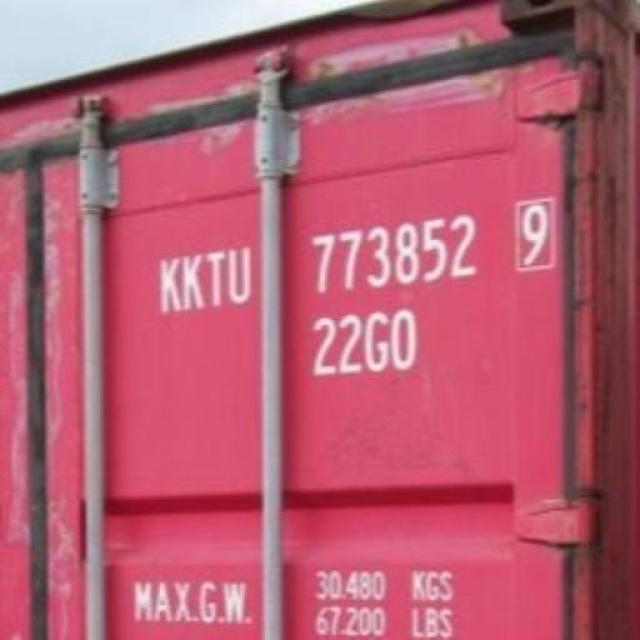ISO: (306, 310, 424, 376)
container_number: (152, 192, 568, 312)
